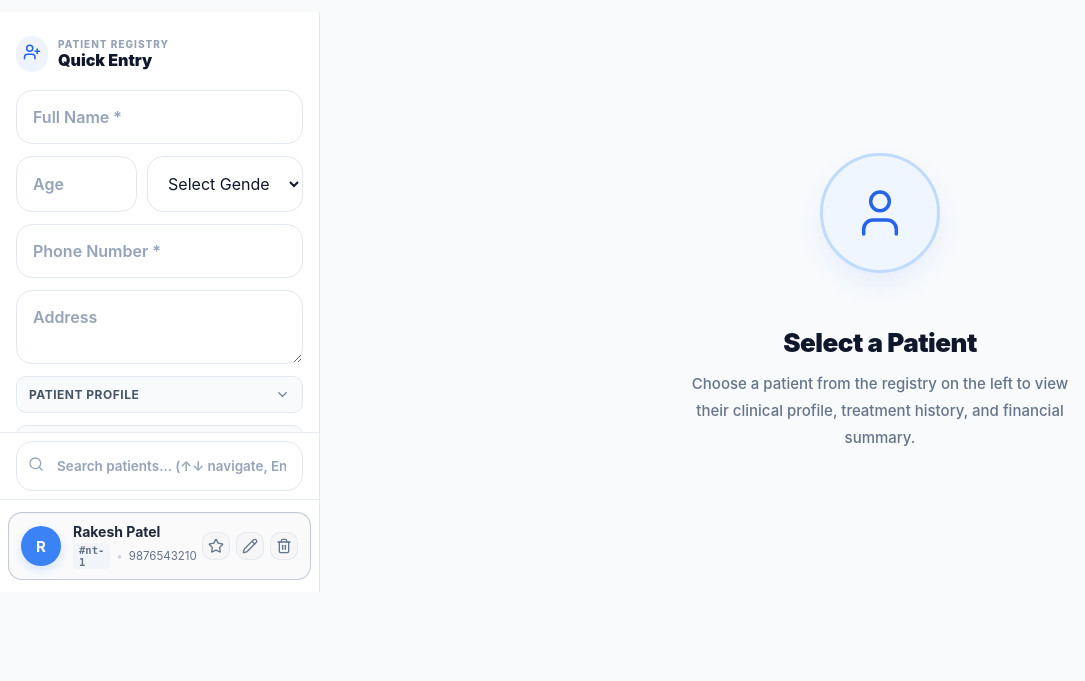
PatientPage — possible-duplicate warning (Issue 1 fix) › warns instead of saving when the phone number matches an existing patient, even with different formatting
Type "Rakesh K Patel" into the field with test id "patient-name-input". click: coordinates (160, 117)
box: [16, 90, 303, 144]
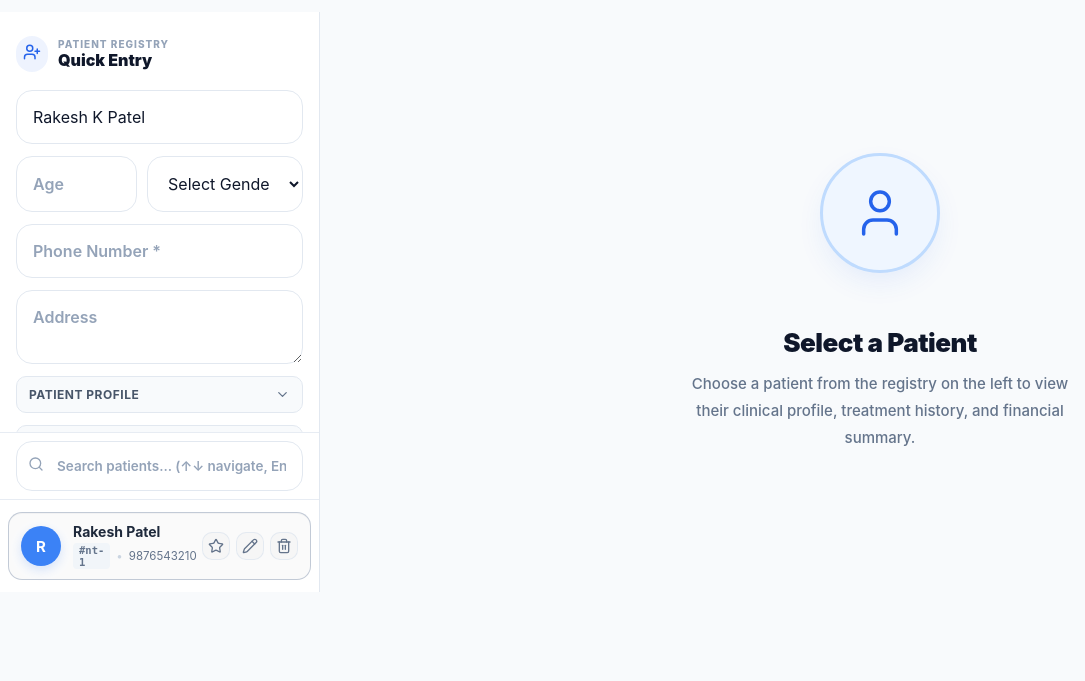
Type "+91 98765-43210" into the field with test id "patient-phone-input". click: coordinates (160, 251)
box: [16, 224, 303, 278]
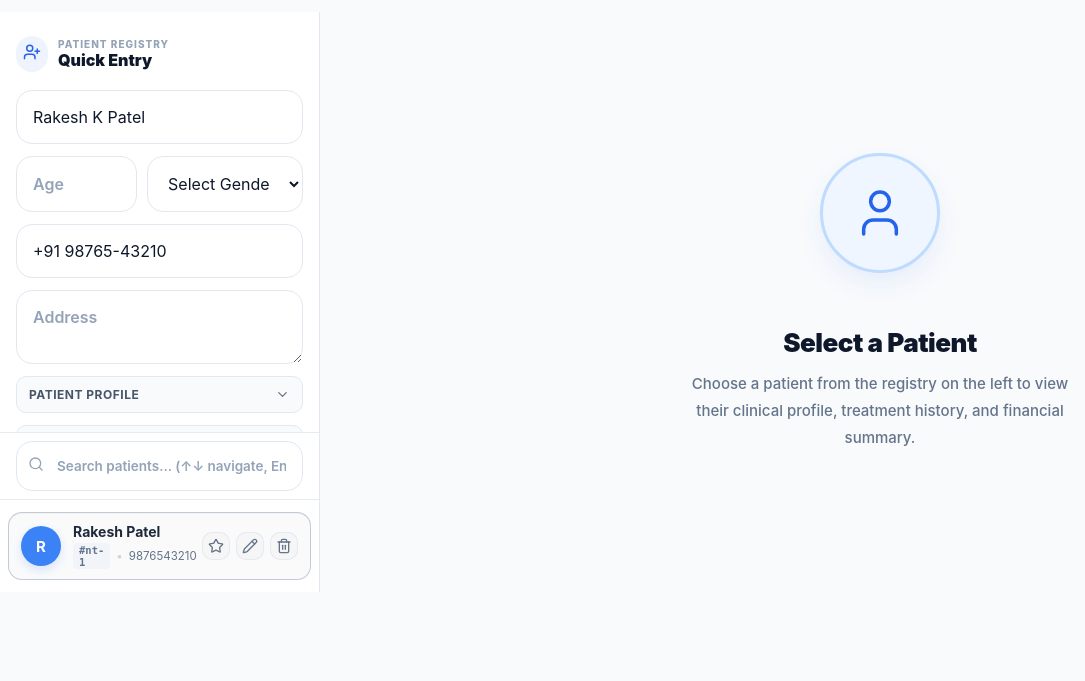
Select "Male" in the dropdown with test id "patient-gender-select". click: coordinates (225, 184)
box: [147, 156, 303, 212]
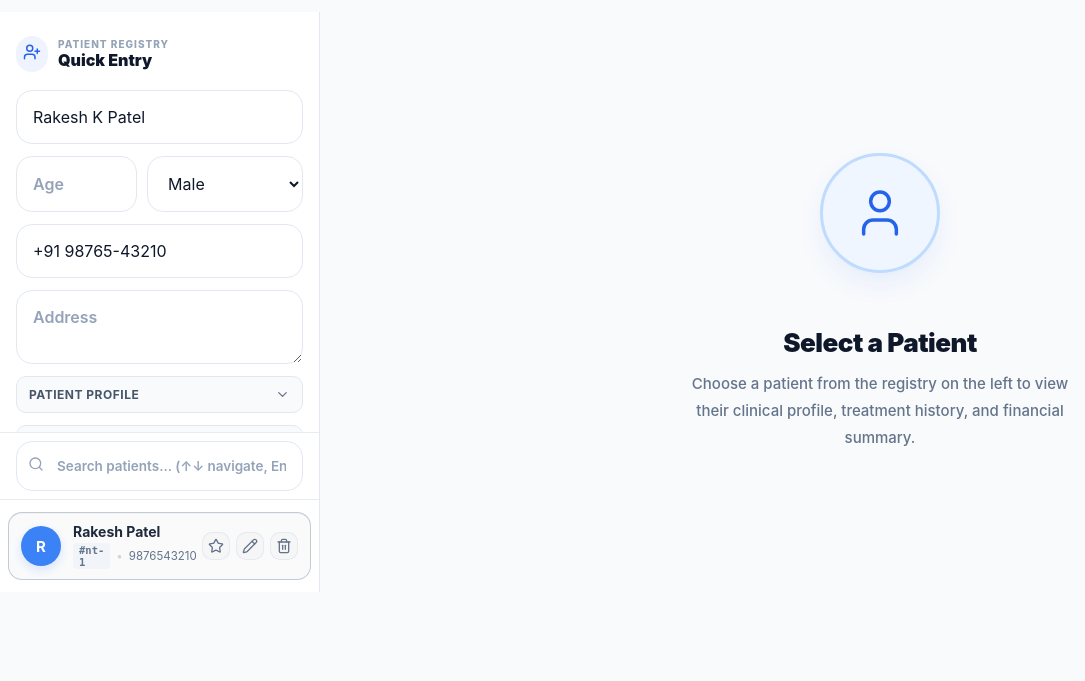
Submit the form with test id "patient-registration-form", box [16, 90, 303, 664]
(page scrolled)
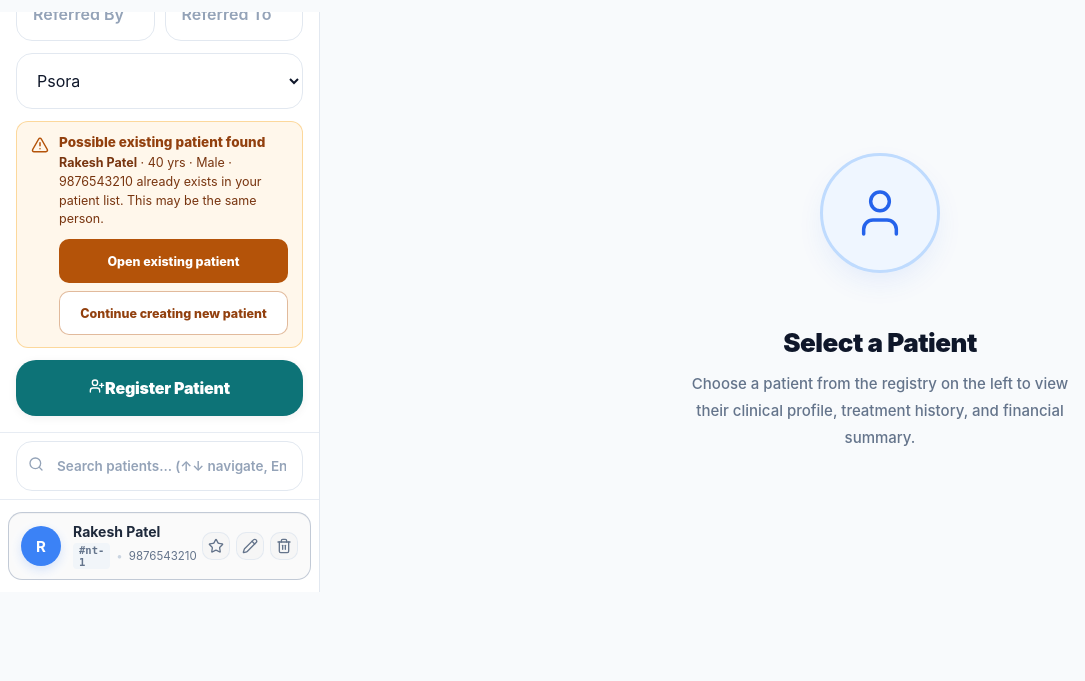
Expected: the element with test id "duplicate-patient-warning" is shown, [16, 121, 303, 348]
Expected: the element with test id "duplicate-patient-warning" shows "Rakesh Patel", [59, 155, 137, 170]
